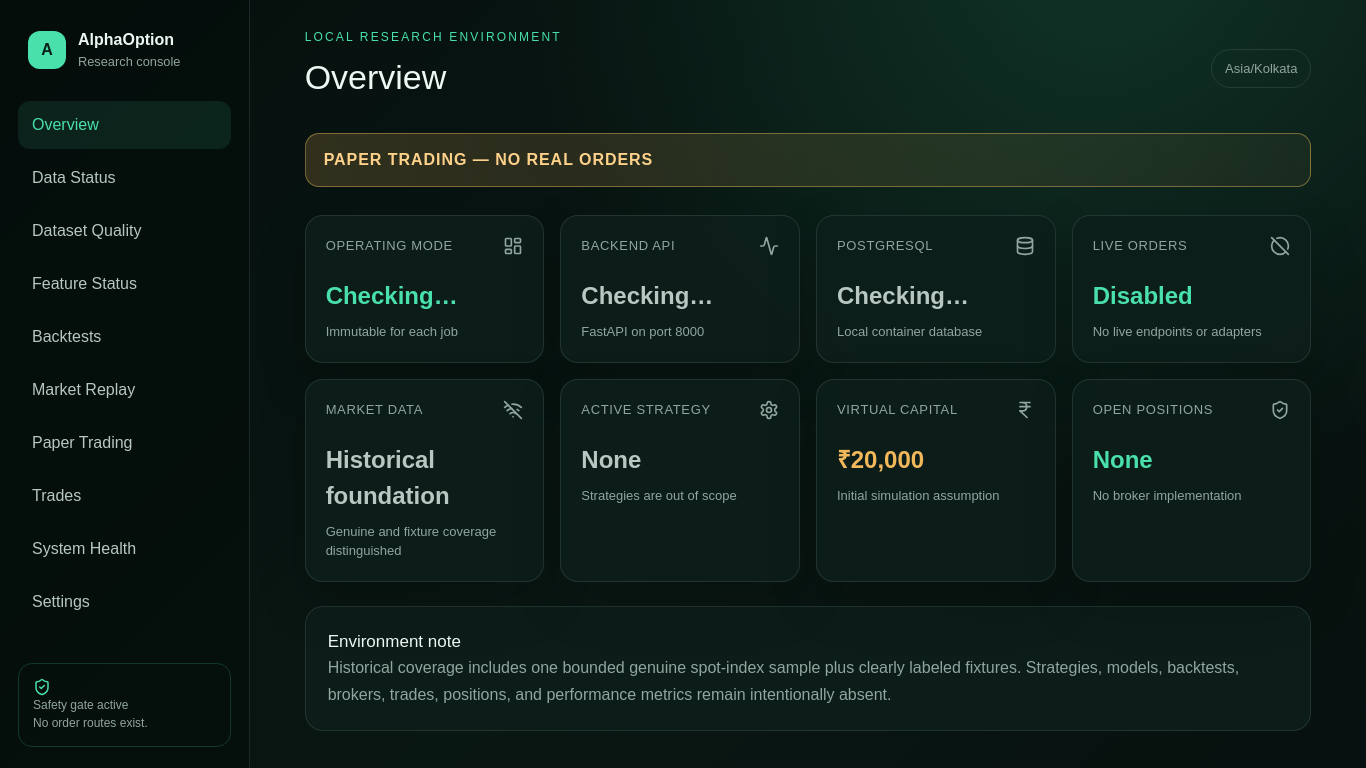
Scenario: Data Status › shows the historical loading state
Click the button "Data Status". click: (124, 178)
box: [18,154,231,202]
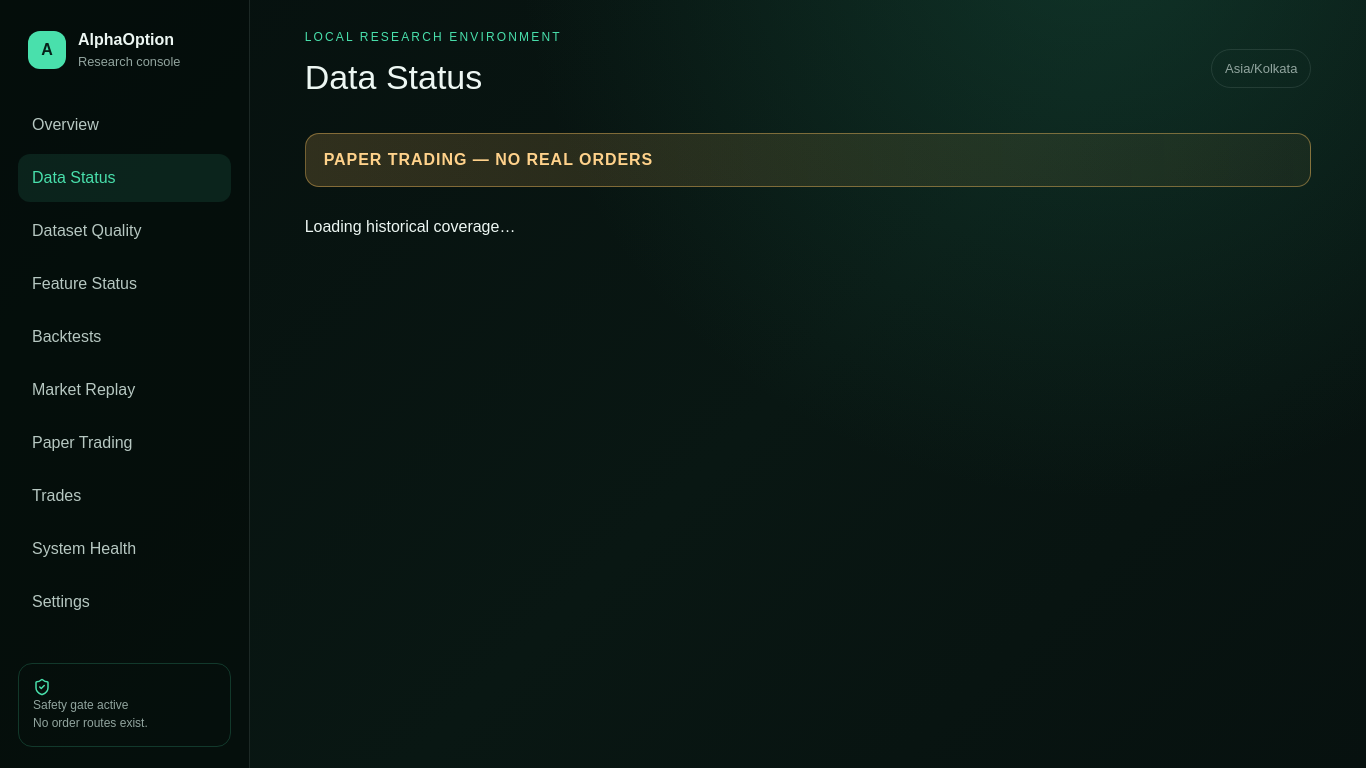
Expected: the text "Loading historical coverage…" is shown, [305,218,515,235]
